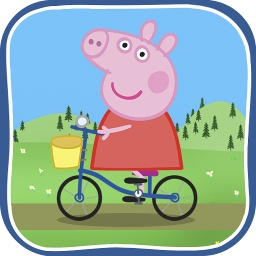Peppa: (80, 21, 187, 173)
